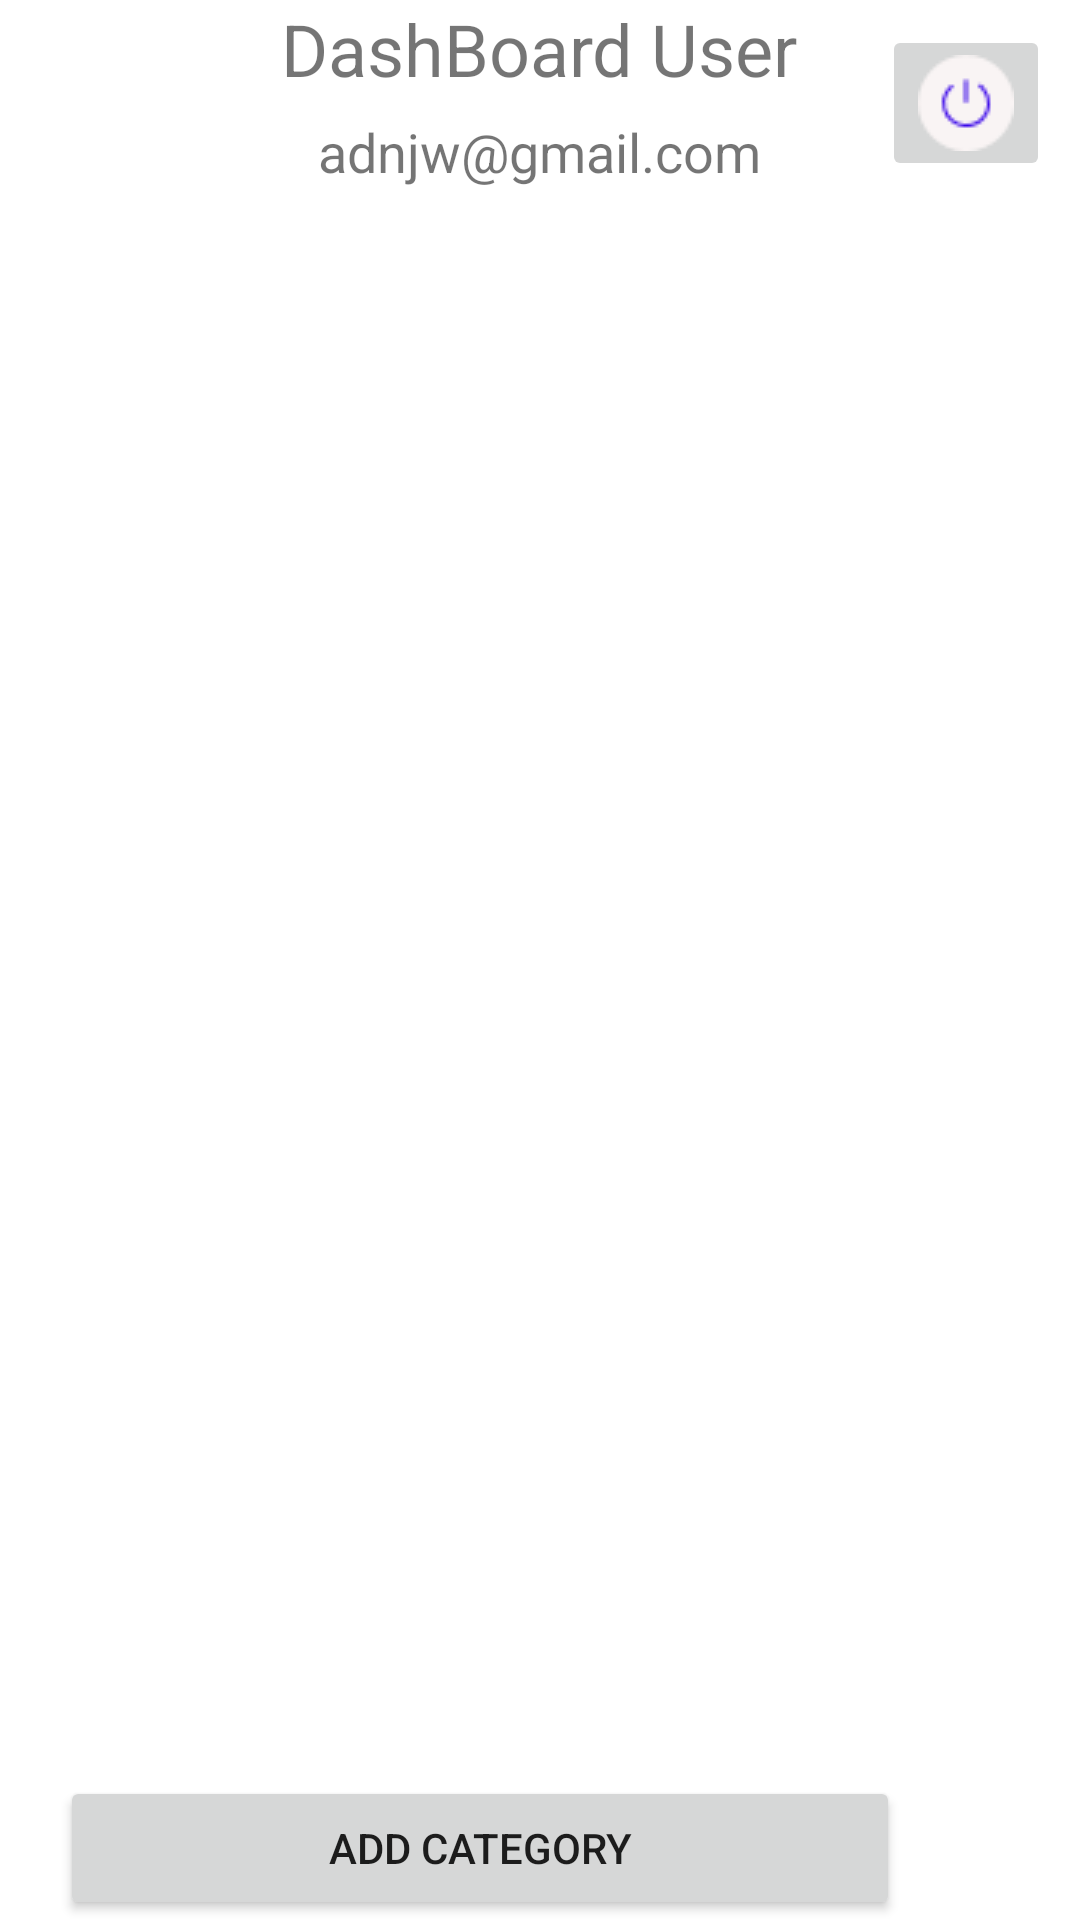

Screen size 1080×1920. Icon name, then its box in pixels as detection(x1, y1, x2, y2):
poweroff: detection(894, 43, 1038, 163)
